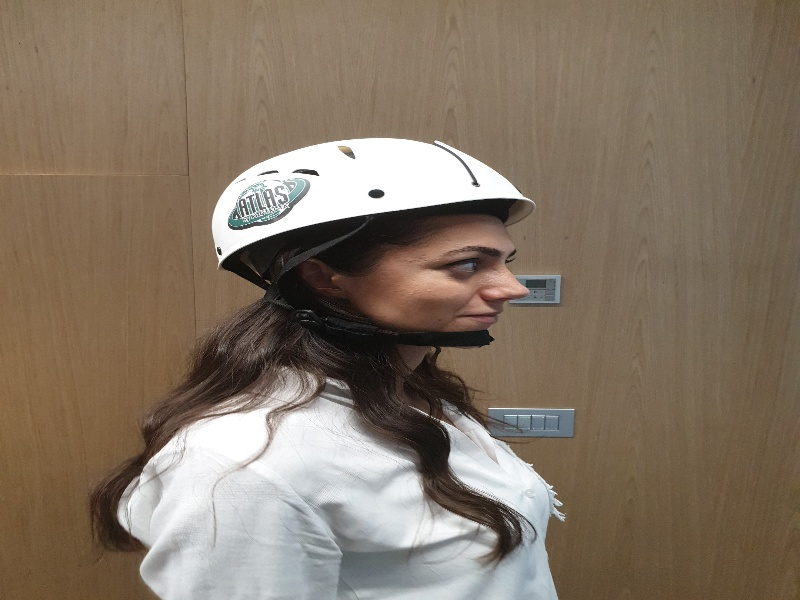Baret: (209, 137, 545, 268)
